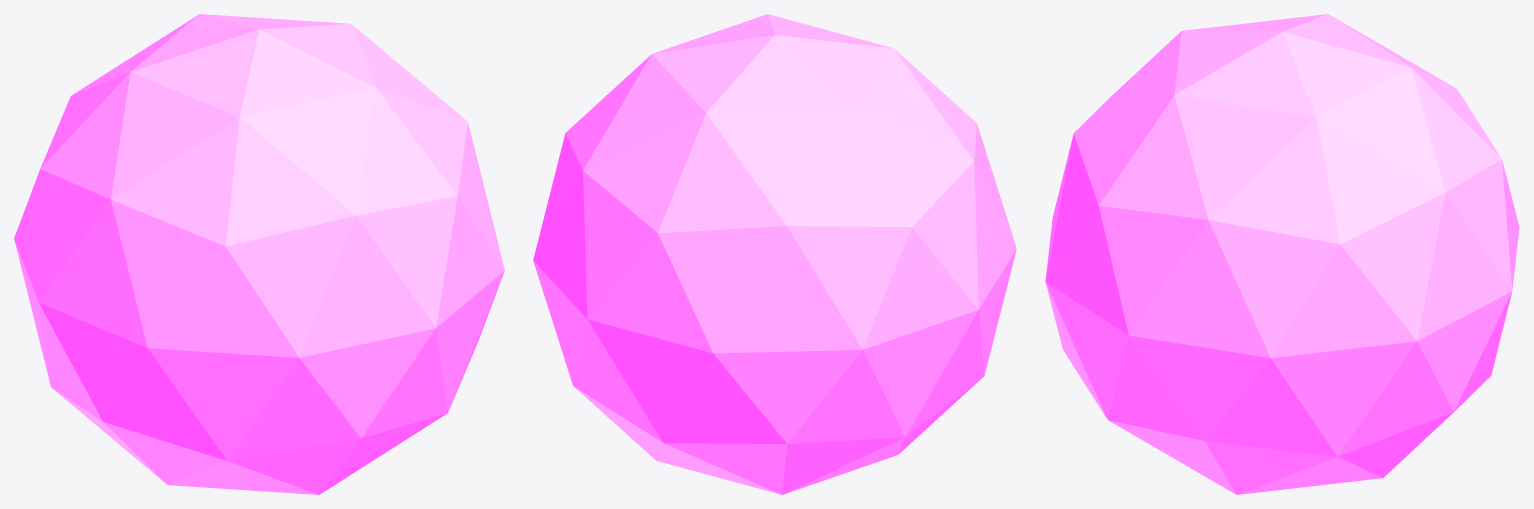
Rendered from armhit.glb.
3 views of the same model, side by side, from view 1: azimuth 30°, elevation 25°; view 2: azimuth 150°, elevation 25°; view 3: azimuth 270°, elevation 25° (orthographic). The views are drawn at different scales.
Visible parts, largest first — view 1: Icosphere.001; view 2: Icosphere.001; view 3: Icosphere.001.
Boxes of the visible parts, x1,y1,x2,y2 form: Icosphere.001: (14,14,504,494); Icosphere.001: (533,14,1016,494); Icosphere.001: (1045,14,1519,494).
Size of the model in its own units: 2 by 2 by 1.93.
